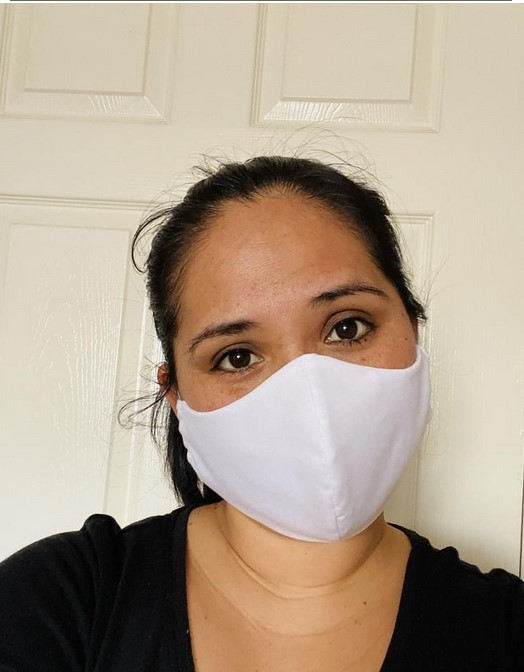face_with_mask: (154, 178, 432, 544)
